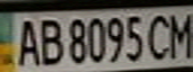0: (84, 15, 106, 64)
5: (124, 11, 148, 62)
8: (63, 15, 87, 65)
9: (106, 13, 127, 64)
A: (9, 16, 42, 68)
B: (33, 15, 63, 66)
C: (145, 11, 175, 61)
M: (166, 9, 193, 60)
